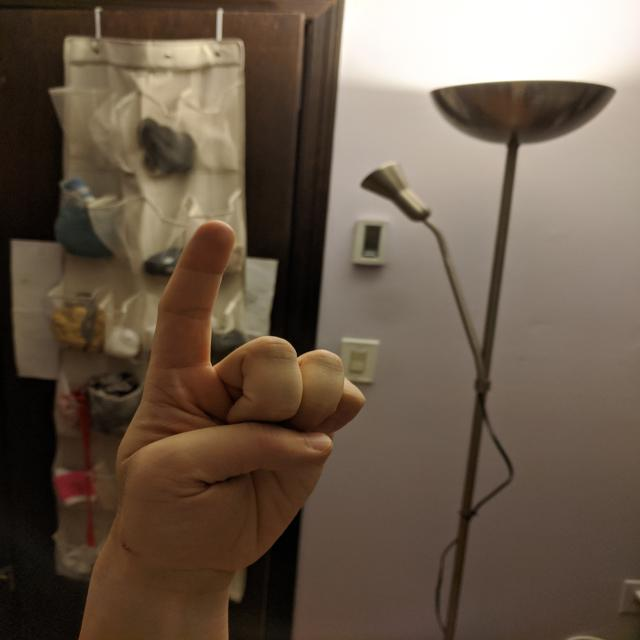D: (85, 214, 372, 578)
